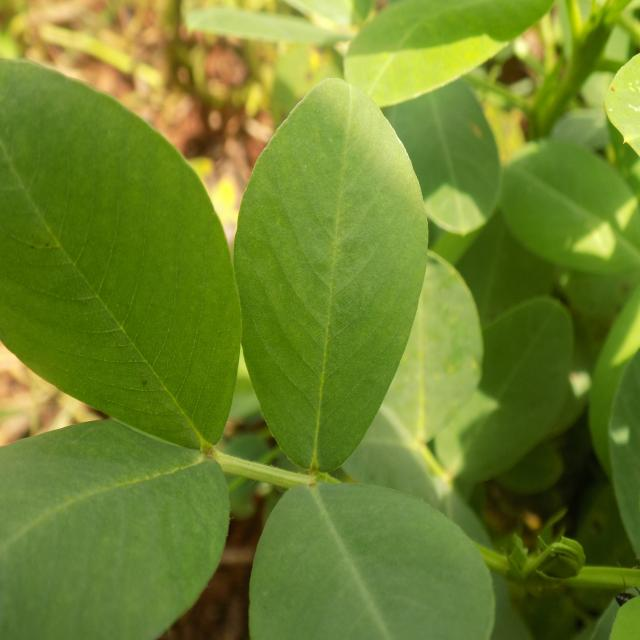Ground nut_healthy: (235, 76, 428, 475), (438, 298, 572, 490), (382, 56, 501, 232)
